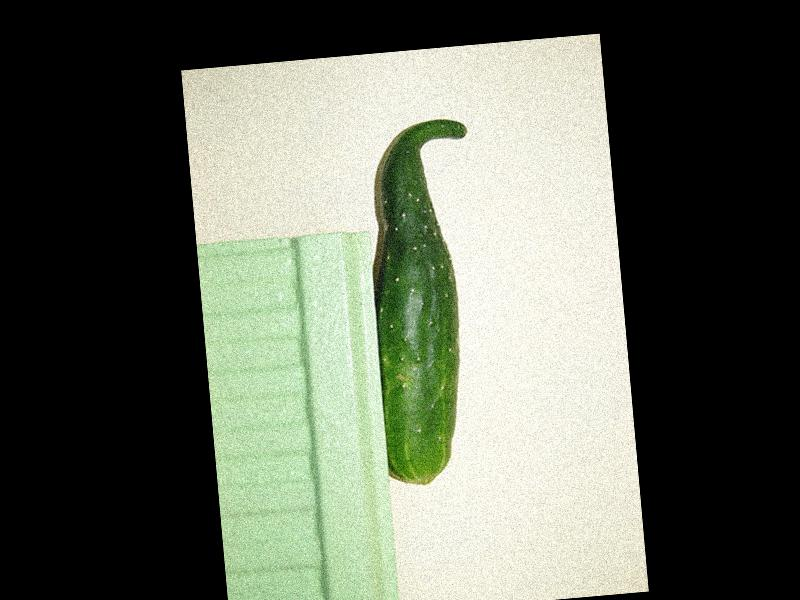Cucumber: (357, 116, 496, 486)
